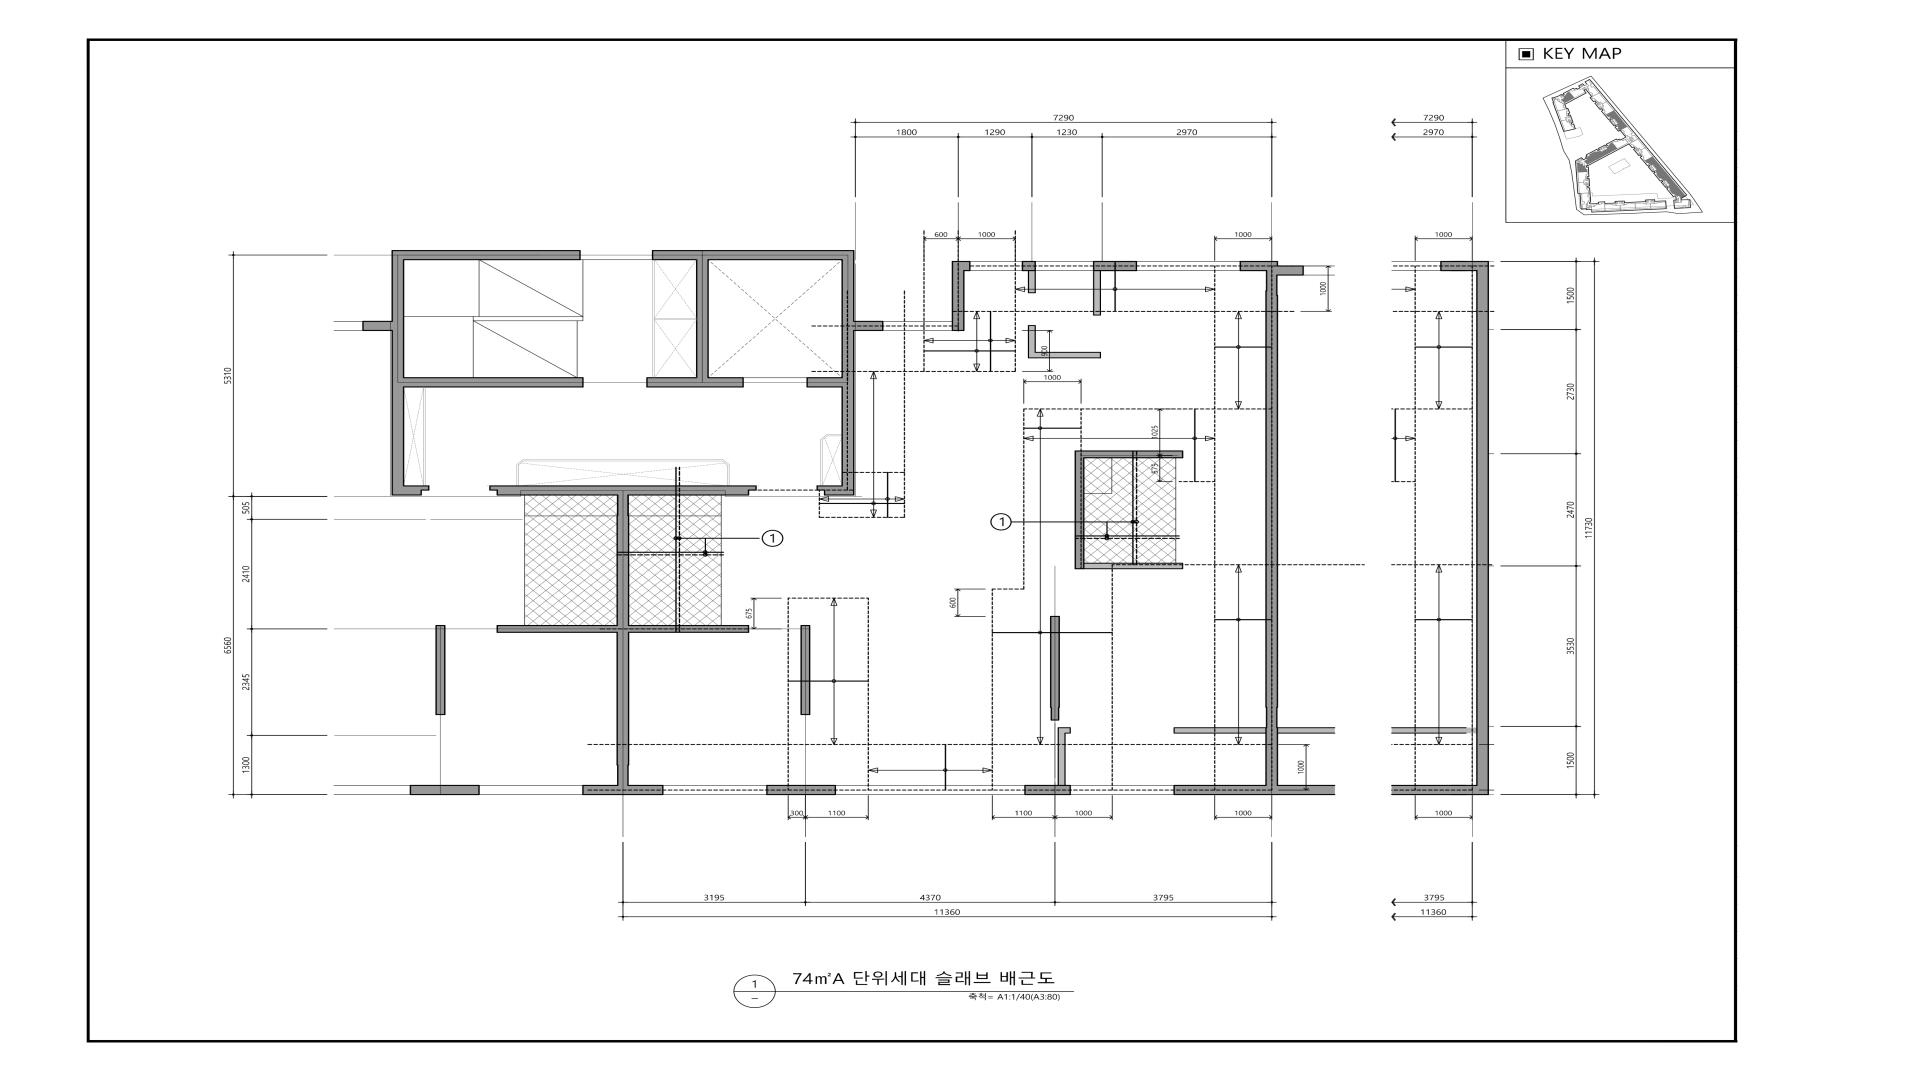wall: (1476, 271, 1489, 785), (1265, 295, 1278, 708), (616, 515, 630, 766), (496, 485, 749, 496), (392, 377, 584, 388), (652, 250, 855, 260), (404, 250, 581, 260), (1173, 785, 1336, 795), (696, 260, 709, 377), (841, 387, 855, 485), (1074, 450, 1085, 569), (392, 388, 404, 485), (435, 625, 446, 715), (646, 377, 744, 387), (1391, 785, 1489, 795), (496, 625, 616, 633), (630, 625, 749, 633), (391, 250, 404, 321), (1050, 616, 1060, 708), (800, 625, 810, 715), (1084, 450, 1183, 459), (841, 260, 855, 320), (952, 261, 964, 331), (582, 785, 664, 795), (1265, 727, 1278, 785), (410, 785, 480, 795), (766, 785, 836, 795), (1173, 727, 1266, 734), (841, 331, 855, 377), (1391, 727, 1476, 734), (1085, 563, 1183, 569), (392, 331, 404, 377), (806, 377, 855, 388), (1440, 261, 1489, 271), (841, 320, 884, 331), (1024, 785, 1071, 795), (1058, 727, 1066, 785), (1036, 352, 1101, 359), (1093, 261, 1137, 271), (362, 321, 404, 331), (1278, 727, 1335, 734), (1093, 271, 1101, 315), (391, 485, 422, 496), (824, 485, 855, 496), (1278, 265, 1304, 276), (616, 495, 630, 515), (1028, 325, 1036, 358), (1240, 261, 1266, 271), (617, 766, 629, 785), (1266, 708, 1278, 727), (1266, 261, 1278, 276), (1028, 271, 1036, 293), (1266, 276, 1278, 290), (1022, 261, 1036, 271), (1051, 708, 1059, 721), (1265, 290, 1278, 296), (964, 261, 971, 271), (749, 485, 757, 491), (816, 485, 824, 491), (489, 485, 496, 491), (422, 485, 429, 491), (1065, 727, 1071, 734)
